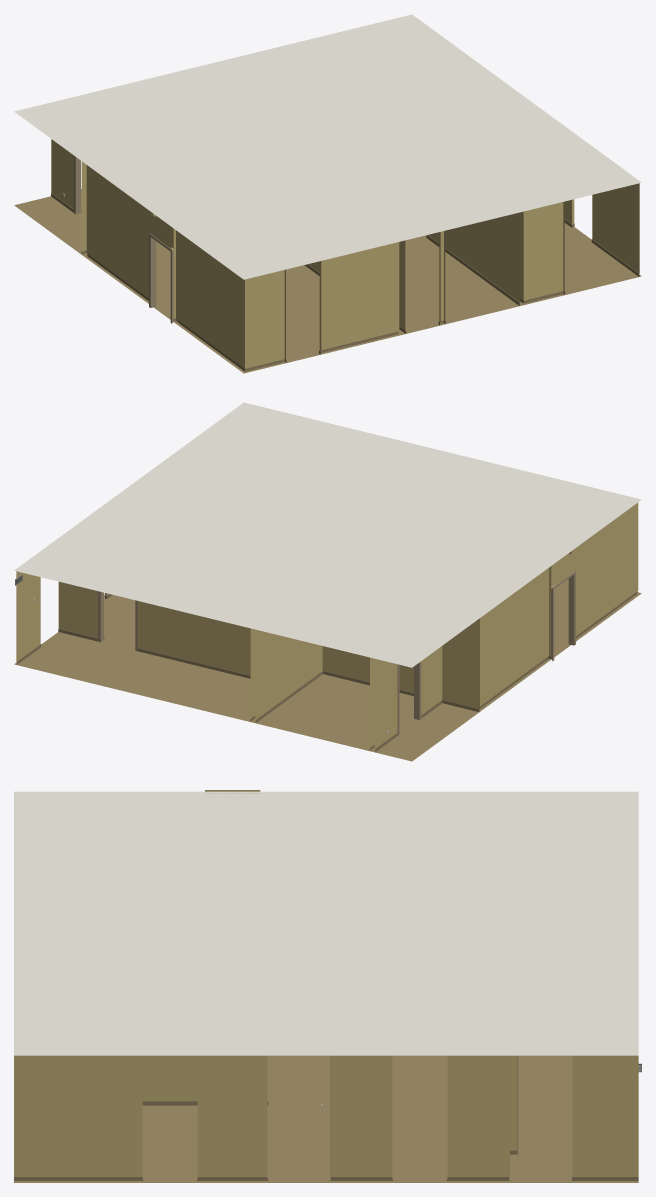
File: chunk_3_3.glb
The picture shows the model from 3 angles, top to bottom: view 1: azimuth 30°, elevation 25°; view 2: azimuth 150°, elevation 25°; view 3: azimuth 270°, elevation 25°; orthographic projection. The views are drawn at different scales.
Visible parts, largest first — view 1: chunk_3_3; view 2: chunk_3_3; view 3: chunk_3_3.
Part boxes in pixels (x1,y1,x2,y2): chunk_3_3: [14, 14, 641, 373]; chunk_3_3: [14, 402, 641, 761]; chunk_3_3: [14, 790, 641, 1182].
Size of the model in its own units: 12.1 by 2.7 by 12.07.
